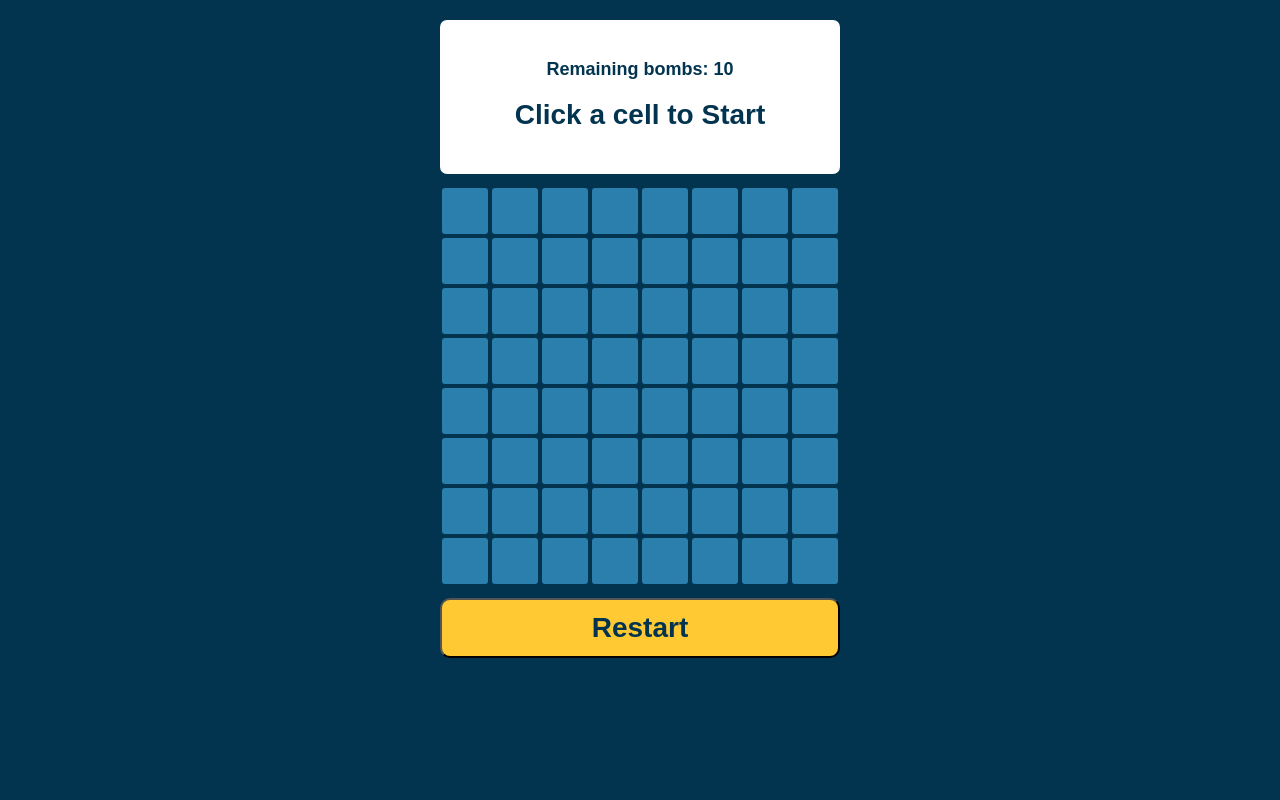
Mine Sweeper tests › renders a bomb when you select the cell
What coordinates should you click on to do the following:
click the 1st element with test id "bomb-cell"
I would click on:
 (465, 210)
Its box is left=440, top=186, right=490, bottom=236.
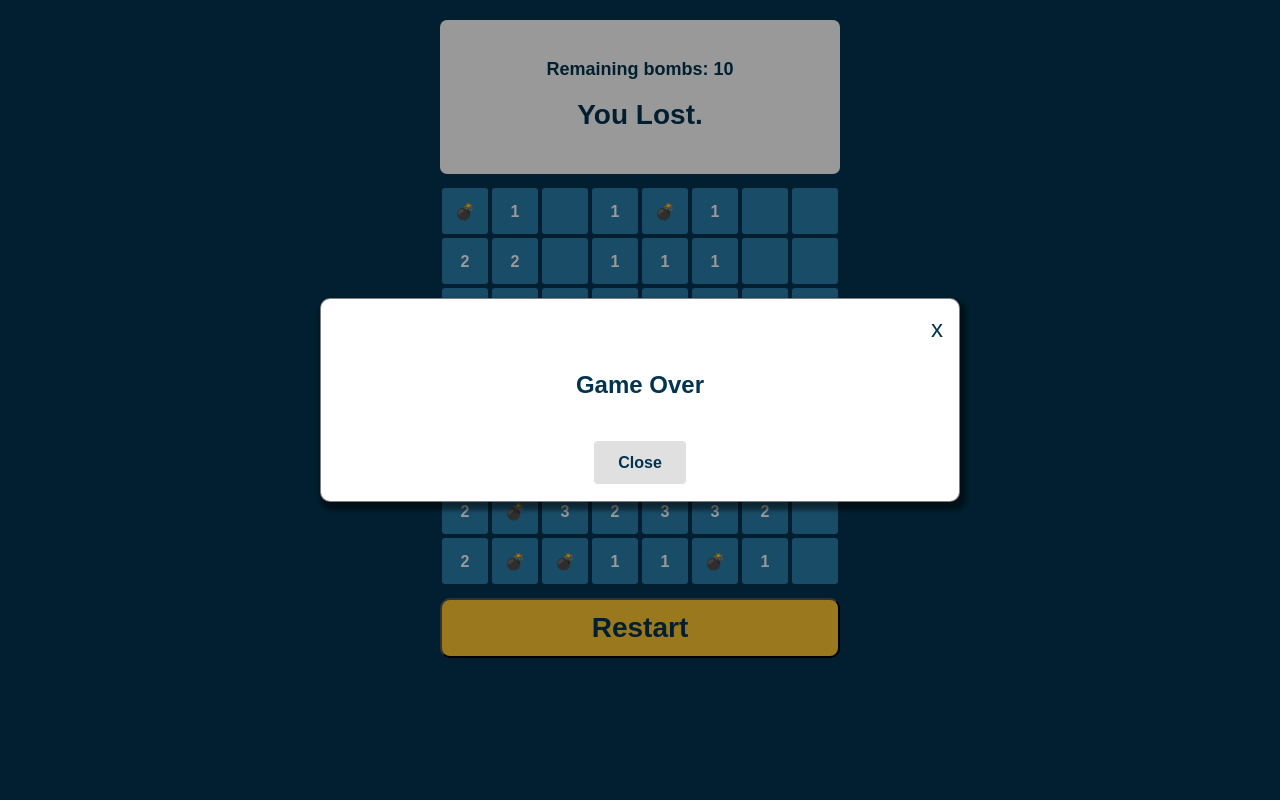
Check: the heading "You Lost." is shown, box left=577, top=99, right=703, bottom=130
